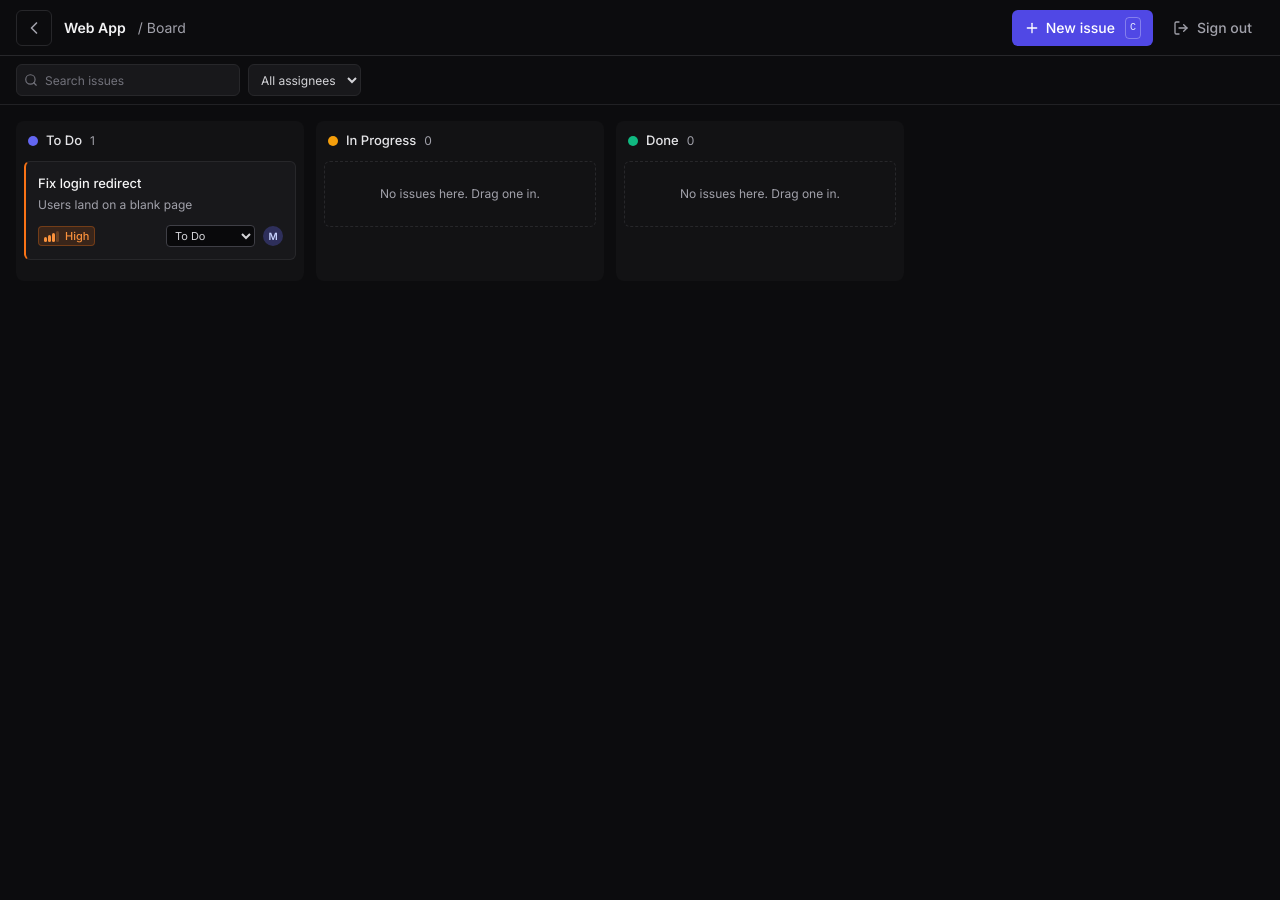
Test: BoardClient › deletes an issue
Click the button "Fix login redirect" at point(160, 183), box [38,174,283,193]
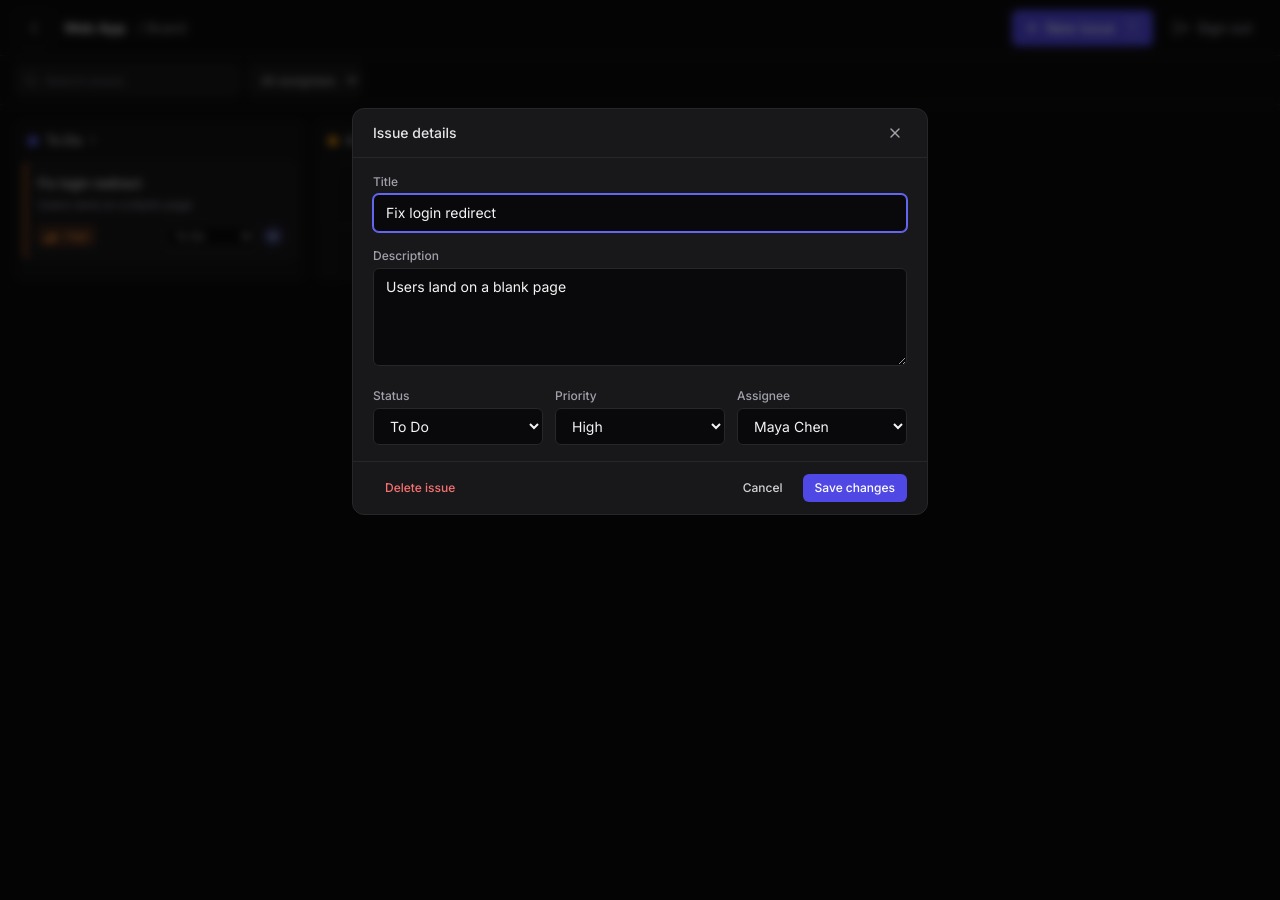
Click the button "Delete issue" at point(420, 488), box [373,474,467,502]
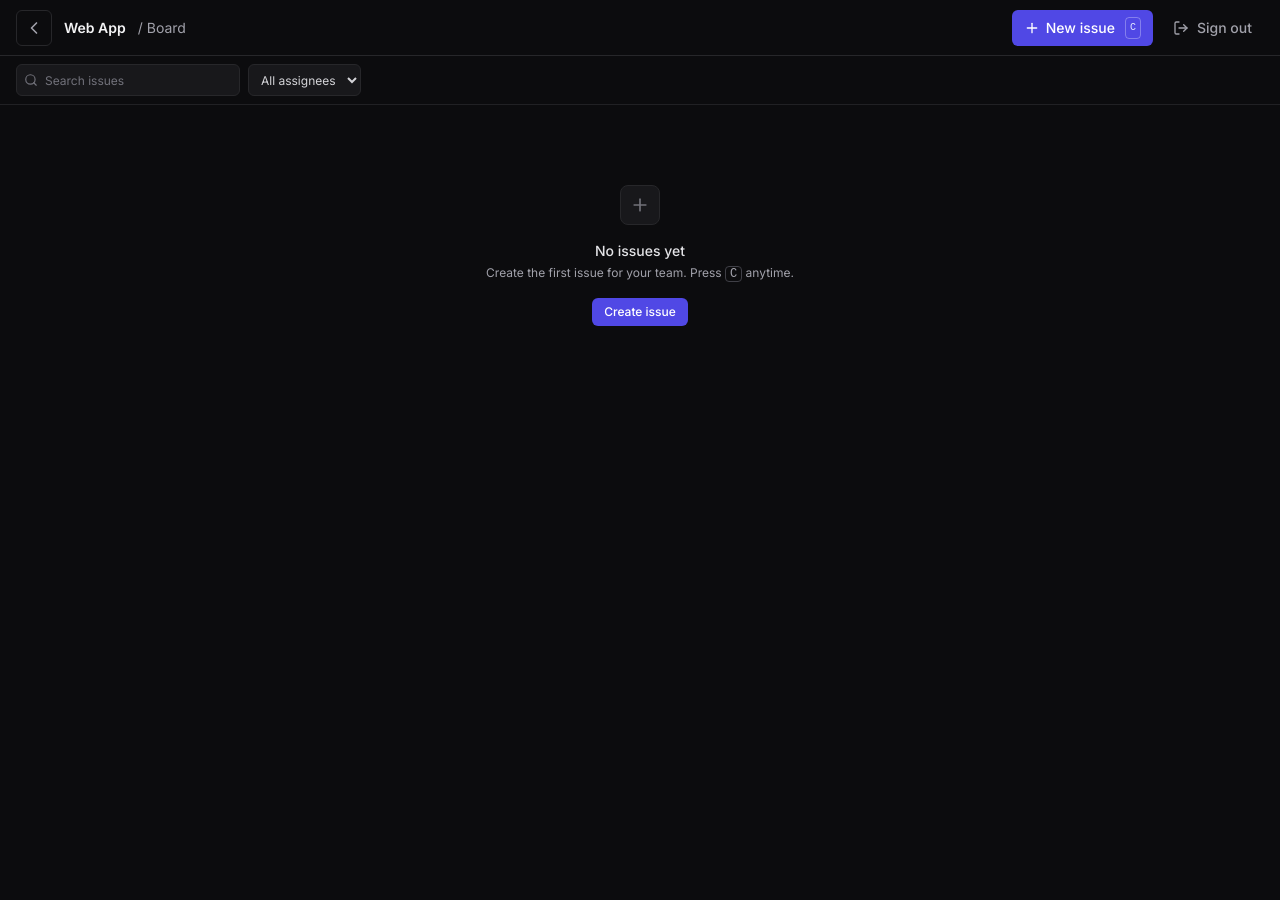
Result: the heading "No issues yet" is shown at [595,242,685,259]
